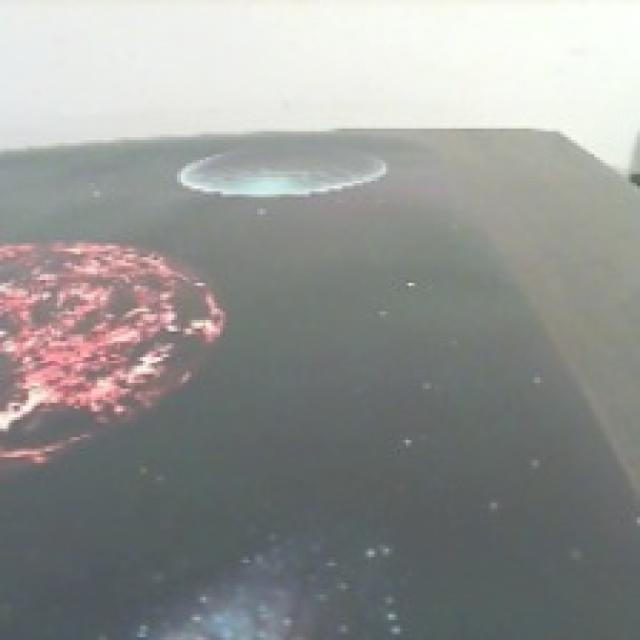Earth: (179, 144, 388, 200)
Sun: (0, 238, 221, 472)
